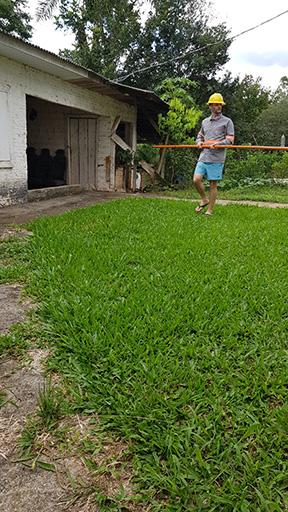Vara_Manobra: (151, 142, 288, 154)
